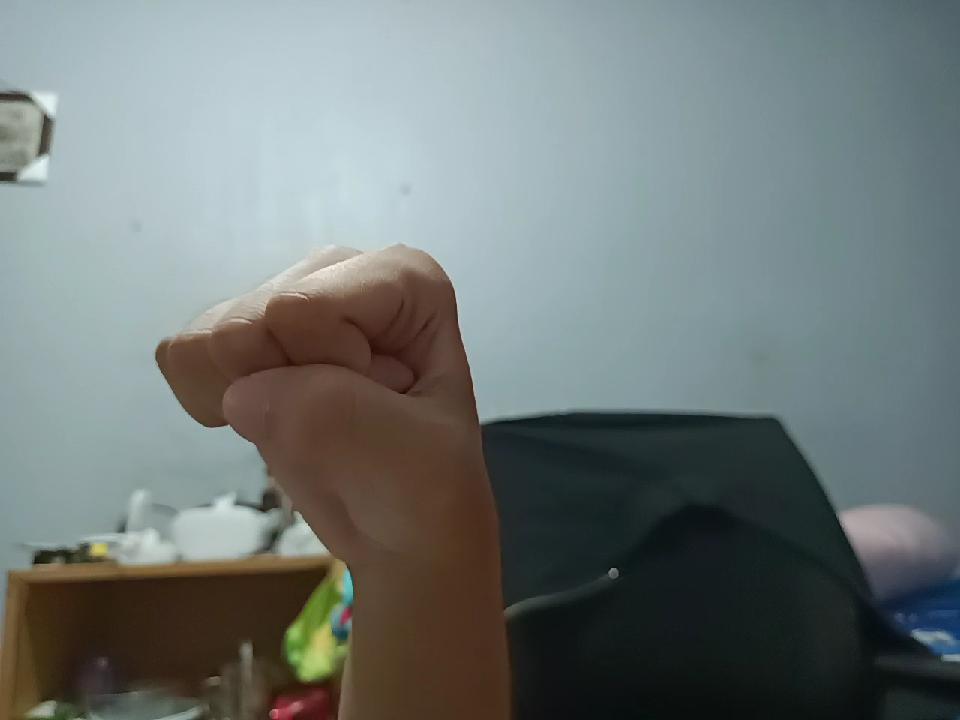rock: (146, 233, 479, 605)
